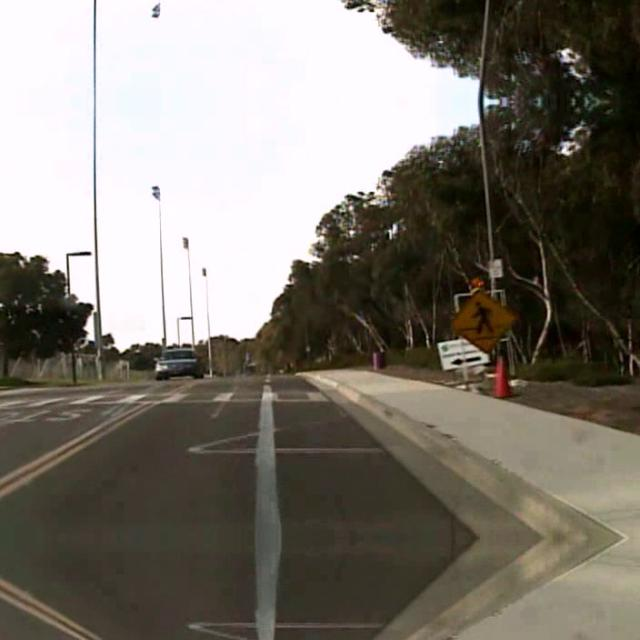pedestrianCrossing: (448, 287, 516, 353)
